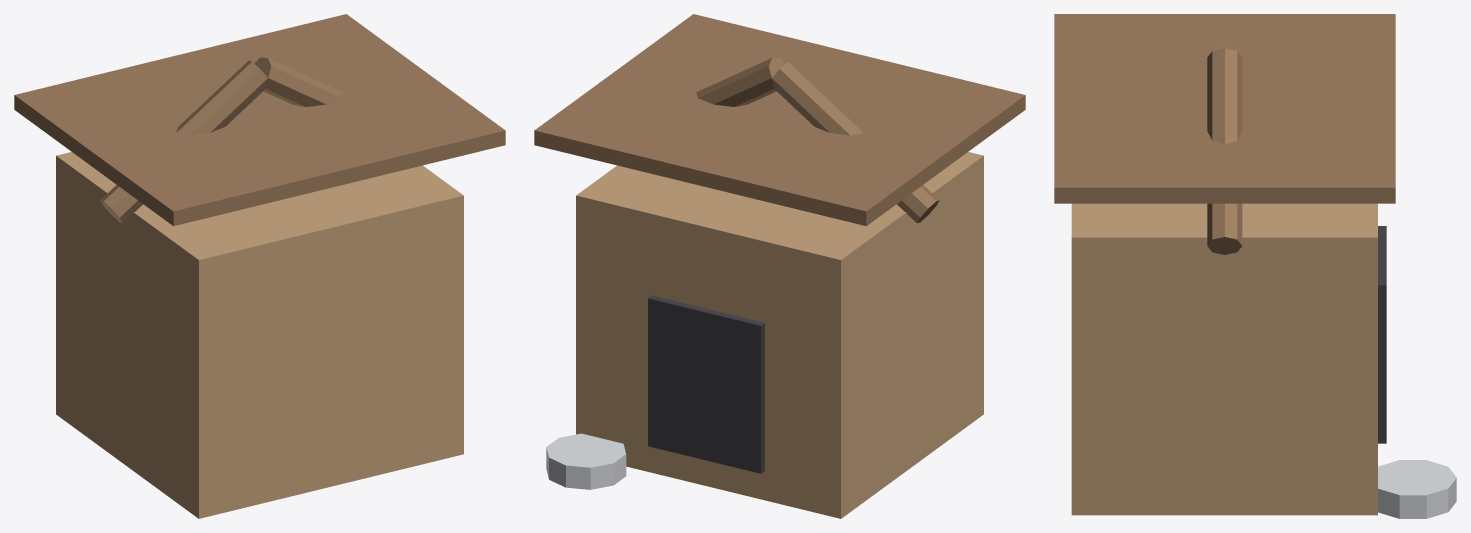
Rendered from guard_dog_kennel.glb.
3 views of the same model, side by side, from view 1: azimuth 30°, elevation 25°; view 2: azimuth 150°, elevation 25°; view 3: azimuth 270°, elevation 25° (orthographic). The views are drawn at different scales.
Visible parts, largest first — view 1: guard_dog_kennel; view 2: guard_dog_kennel; view 3: guard_dog_kennel.
Part boxes in pixels (x1,y1,x2,y2): guard_dog_kennel: (14,14,505,518); guard_dog_kennel: (534,14,1025,518); guard_dog_kennel: (1054,14,1456,518).
Bounding box in the file's own units: 0.94 × 1.01 × 0.92.
